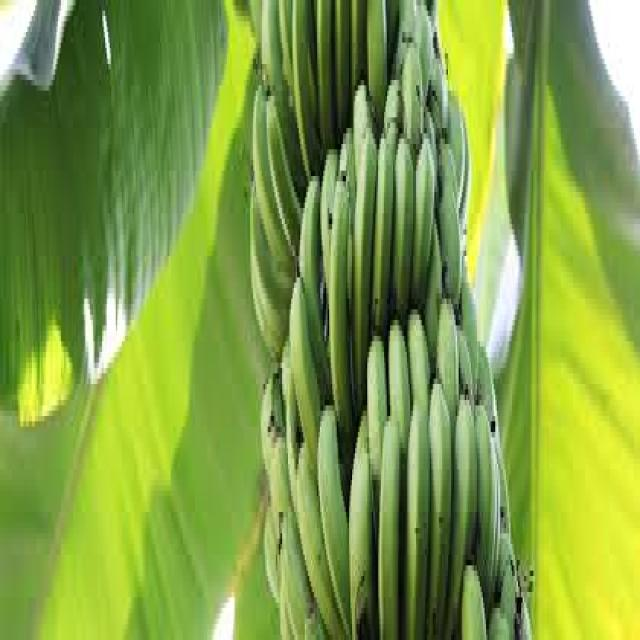banana: (247, 0, 533, 635)
